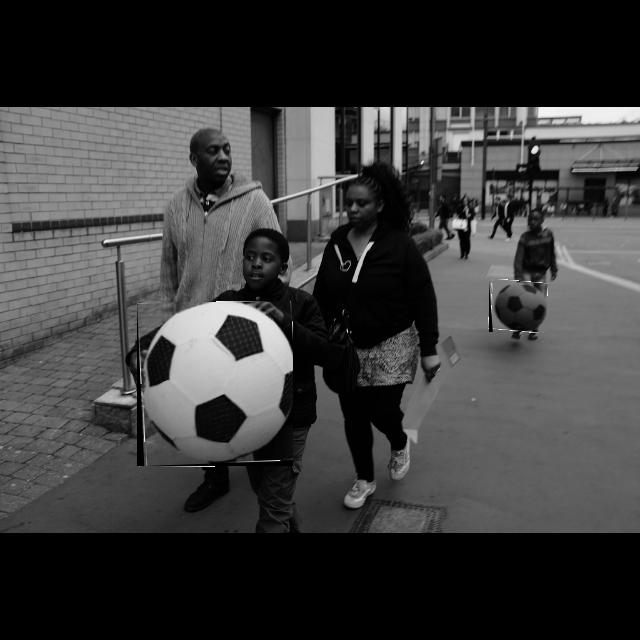Football: (137, 302, 293, 466), (489, 280, 547, 332)
